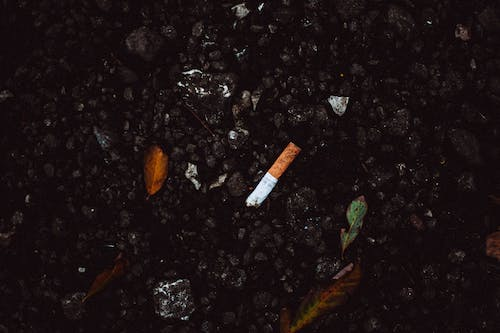cigarette: (245, 139, 303, 209)
